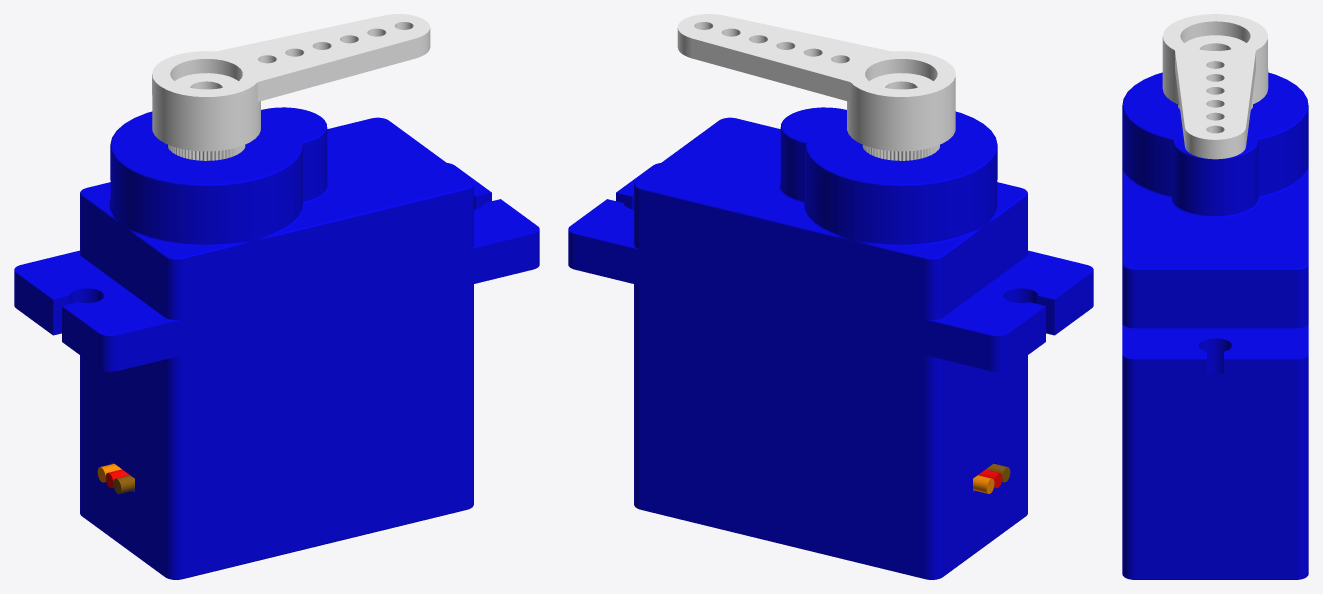
3 views of the same model, side by side, from view 1: azimuth 30°, elevation 25°; view 2: azimuth 150°, elevation 25°; view 3: azimuth 270°, elevation 25° (orthographic). The views are drawn at different scales.
Visible parts, largest first — view 1: servo_body, horn; view 2: servo_body, horn; view 3: servo_body, horn.
Part boxes in pixels (x1,y1,x2,y2): servo_body: [14, 107, 539, 579]; horn: [152, 14, 430, 151]; servo_body: [568, 107, 1093, 579]; horn: [677, 14, 955, 151]; servo_body: [1122, 72, 1308, 579]; horn: [1162, 14, 1268, 159].
Bounding box in the file's own units: 3.21 × 3.17 × 1.22.
